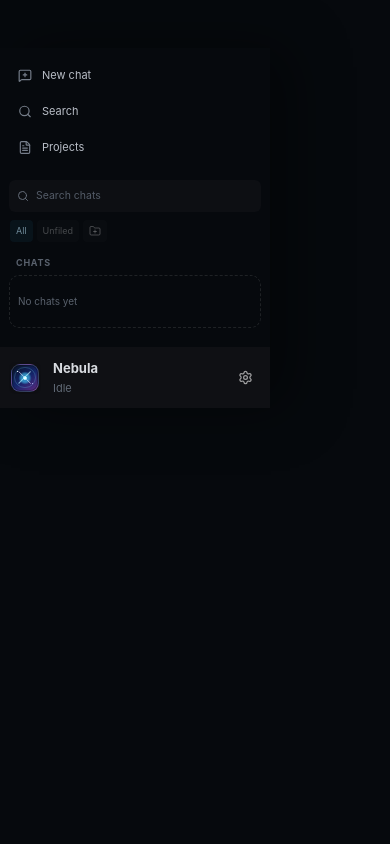
Test case: Sidebar interaction › dismisses the avatar popover on outside click
Click the button named "Customize Nebula avatar": (25, 378) [9,362,41,394]
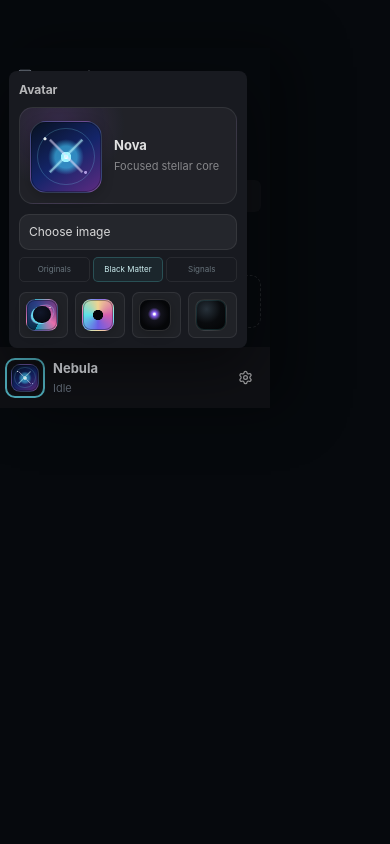
Check: the text "Avatar" is shown, box [19,82,58,96]
Press the mouse on the element that starts with "New chat": (195, 422) [0,0,389,843]
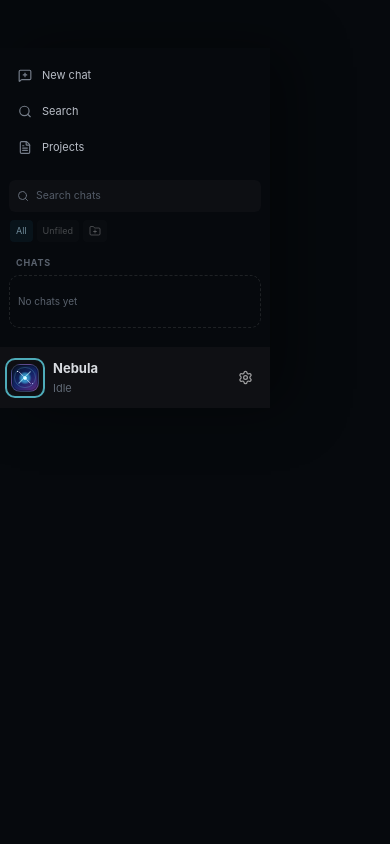
Check: the text "Avatar" is gone
